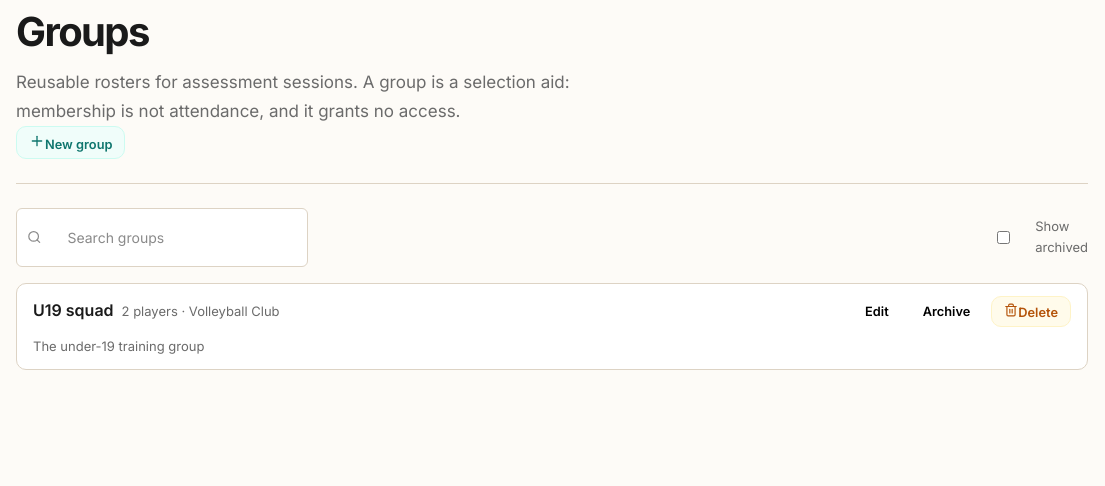
Test: Groups catalogue › keeps archived rows out until the coach asks to see them
Expected: the link "U19 squad" is shown, 33,298 -> 114,324
Expected: the text "Retired" is not shown
Click the checkbox labelled "Show archived" at (1004, 237), box 978,231 -> 1029,244
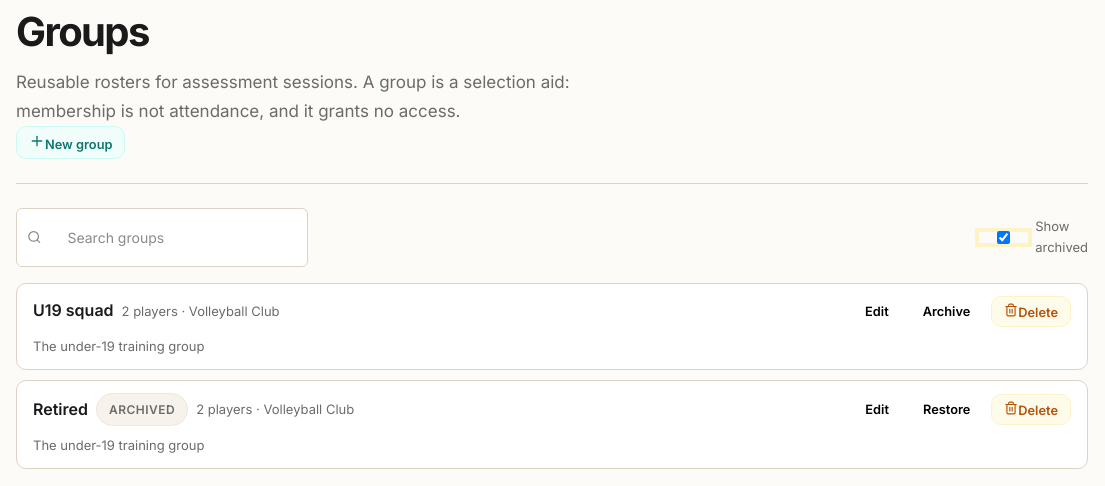
Expected: the link "Retired" is shown, 33,397 -> 88,422
Expected: the text "Archived" is shown, 96,393 -> 188,426
